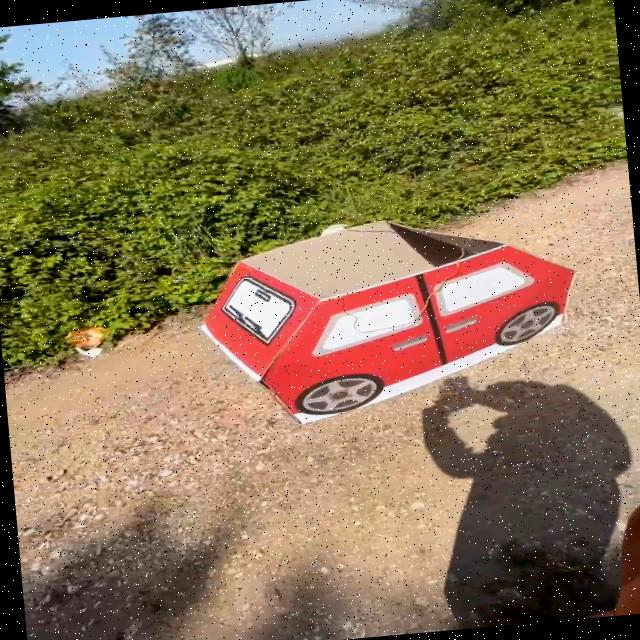red_car: (182, 200, 598, 438)
